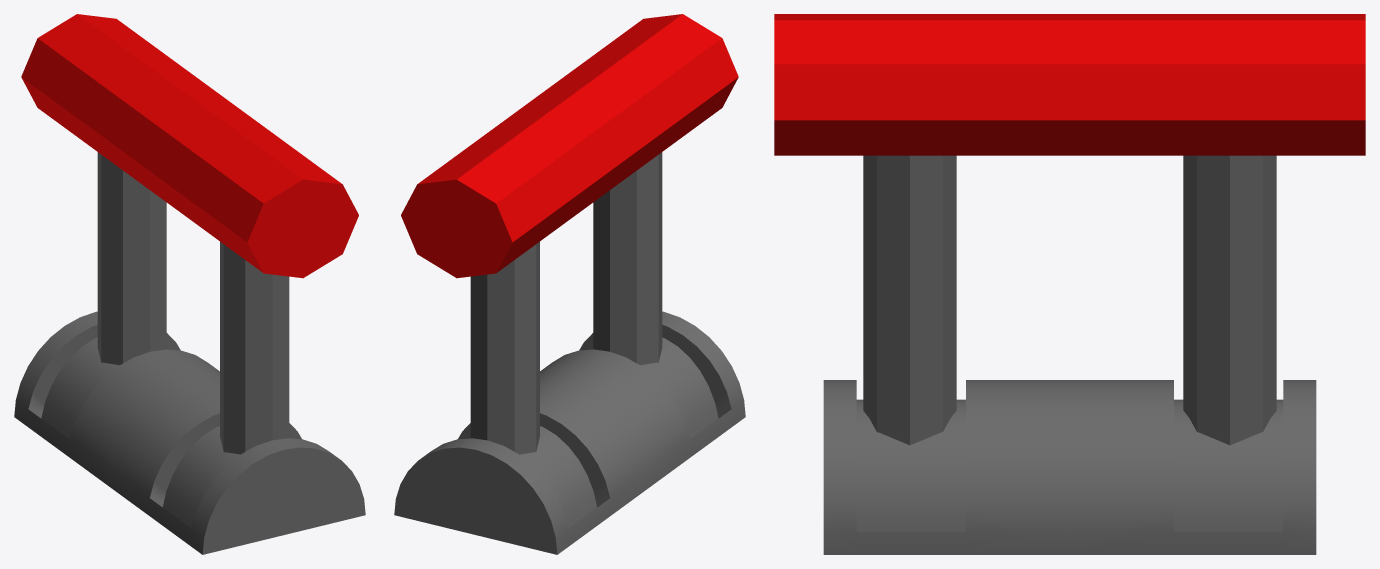
File: Throttle.fbx
3 renders of one model, left to right at view 1: azimuth 30°, elevation 25°; view 2: azimuth 150°, elevation 25°; view 3: azimuth 270°, elevation 25°, orthographic. The views are drawn at different scales.
Parts seen in each view (by area): view 1: Handle, Base; view 2: Handle, Base; view 3: Handle, Base.
Part boxes in pixels (x1,y1,x2,y2): Handle: [21, 14, 358, 454]; Base: [14, 311, 365, 554]; Handle: [401, 14, 738, 454]; Base: [394, 311, 745, 554]; Handle: [774, 14, 1365, 445]; Base: [823, 380, 1316, 554].
Size of the model in its own units: 200 by 433 by 480.
